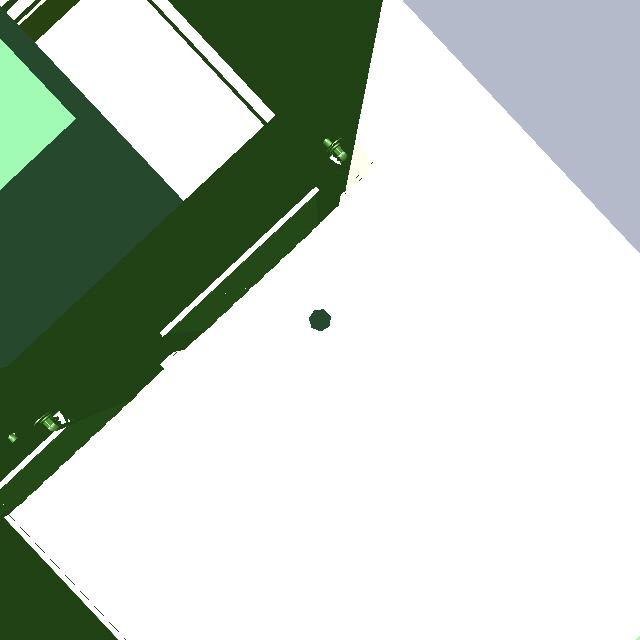Poste: (306, 306, 336, 335)
